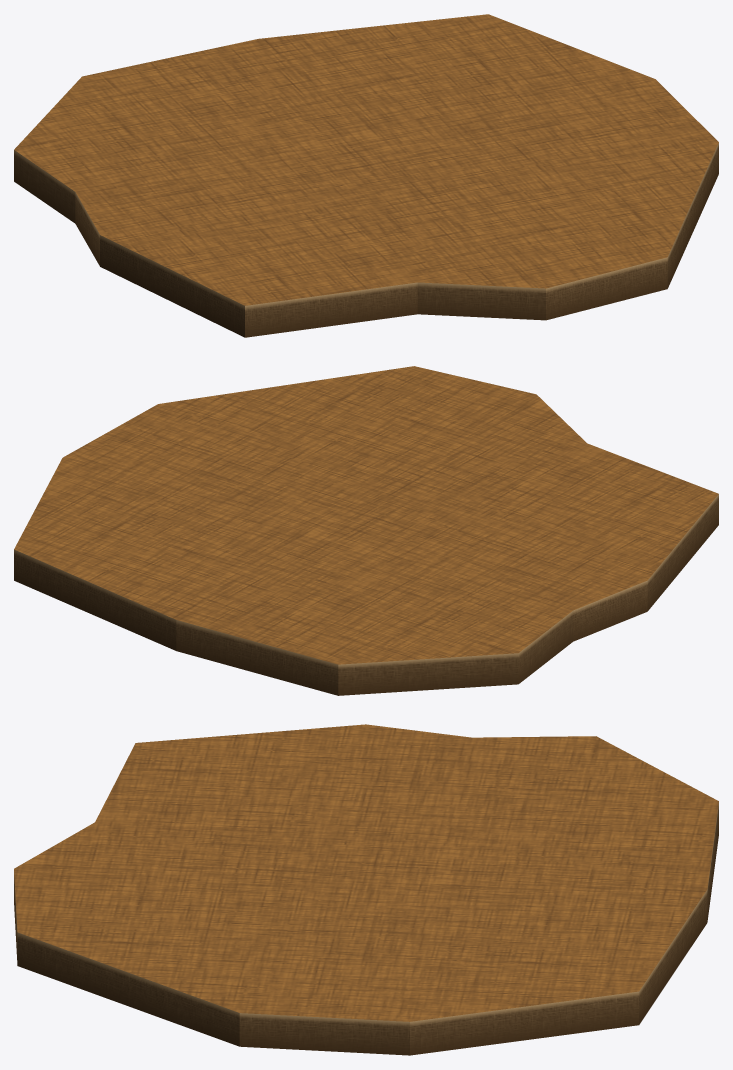
Rendered from Terrain01_C.FBX.
3 views of the same model, one above another, from view 1: azimuth 30°, elevation 25°; view 2: azimuth 150°, elevation 25°; view 3: azimuth 270°, elevation 25° (orthographic). The views are drawn at different scales.
Parts seen in each view (by area): view 1: Terrain01_C; view 2: Terrain01_C; view 3: Terrain01_C.
Boxes of the visible parts, x1=… form: Terrain01_C: x1=14, y1=14, x2=718, y2=337; Terrain01_C: x1=14, y1=366, x2=718, y2=695; Terrain01_C: x1=14, y1=724, x2=718, y2=1055.
Bounding box in the file's own units: 950 × 50.17 × 951.
Materials: 1 (1 with a texture image).
